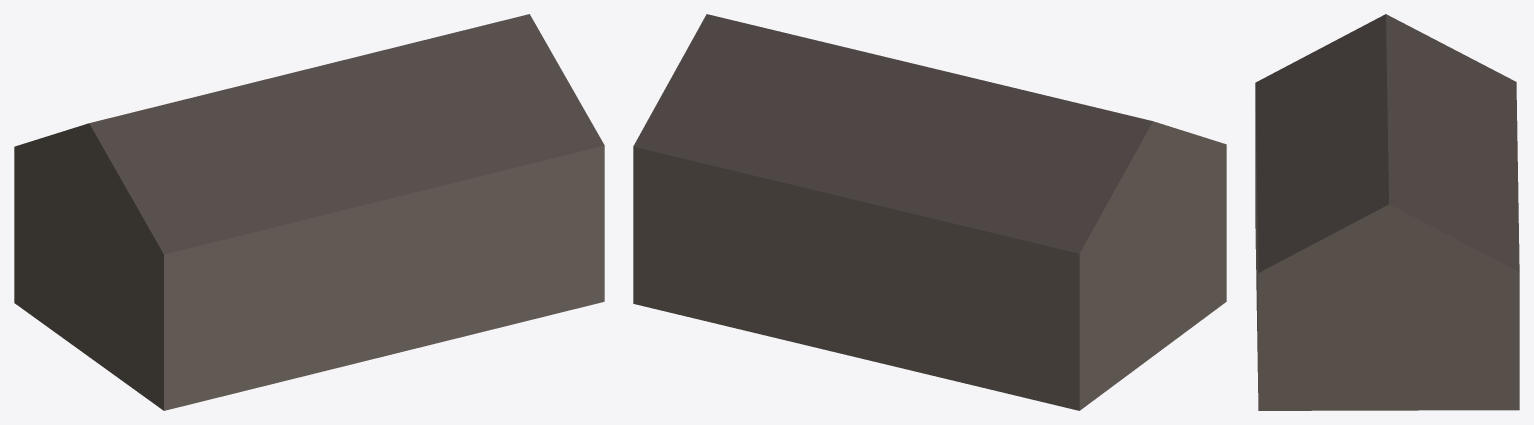
The picture shows the model from 3 angles, left to right: view 1: azimuth 30°, elevation 25°; view 2: azimuth 150°, elevation 25°; view 3: azimuth 270°, elevation 25°; orthographic projection. The views are drawn at different scales.
Parts seen in each view (by area): view 1: HP-w858807434; view 2: HP-w858807434; view 3: HP-w858807434.
Part boxes in pixels (x1,y1,x2,y2): HP-w858807434: [14, 14, 604, 410]; HP-w858807434: [633, 14, 1226, 410]; HP-w858807434: [1255, 14, 1519, 410].
Bounding box in the file's own units: 17.84 × 8.97 × 10.42.
